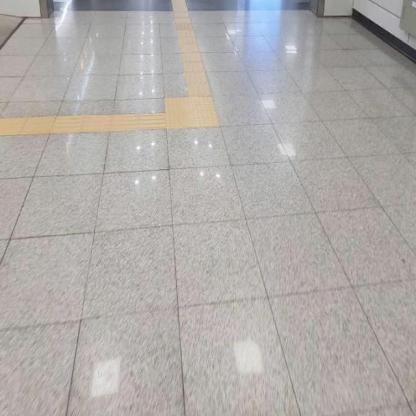podotacti: (147, 74, 229, 147), (0, 111, 164, 138), (170, 0, 212, 97)
